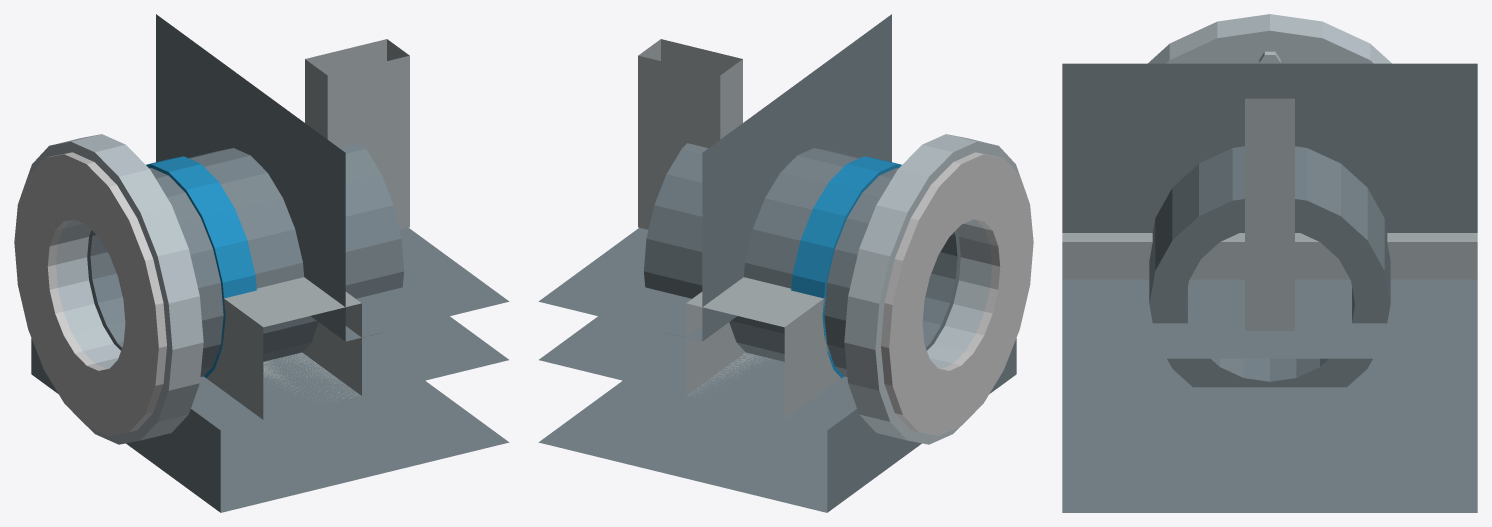
Rendered from cell_21.obj.
3 views of the same model, side by side, from view 1: azimuth 30°, elevation 25°; view 2: azimuth 150°, elevation 25°; view 3: azimuth 270°, elevation 25° (orthographic). The views are drawn at different scales.
Bounding box in the file's own units: 1 × 0.96 × 1.
